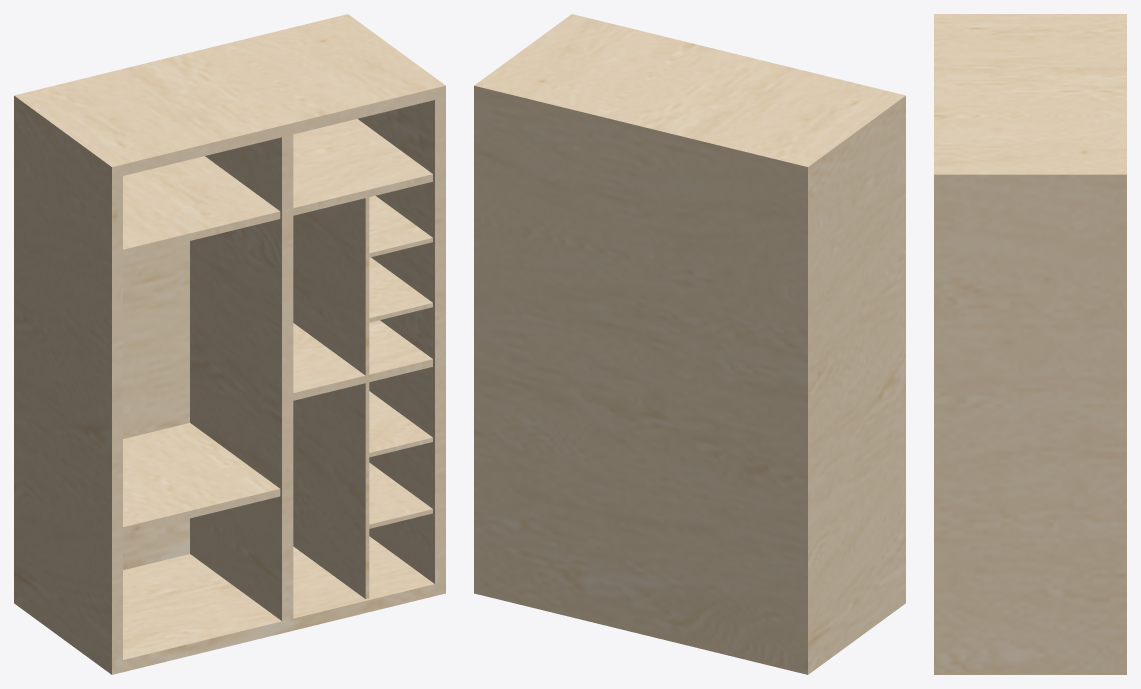
Rendered from Closet01.fbx.
3 renders of one model, left to right at view 1: azimuth 30°, elevation 25°; view 2: azimuth 150°, elevation 25°; view 3: azimuth 270°, elevation 25°, orthographic.
Visible parts, largest first — view 1: Closet01; view 2: Closet01; view 3: Closet01.
Boxes of the visible parts, x1,y1,x2,y2 form: Closet01: [14, 14, 445, 674]; Closet01: [474, 14, 905, 674]; Closet01: [934, 14, 1126, 674].
Size of the model in its own units: 175 by 254 by 88.93.
